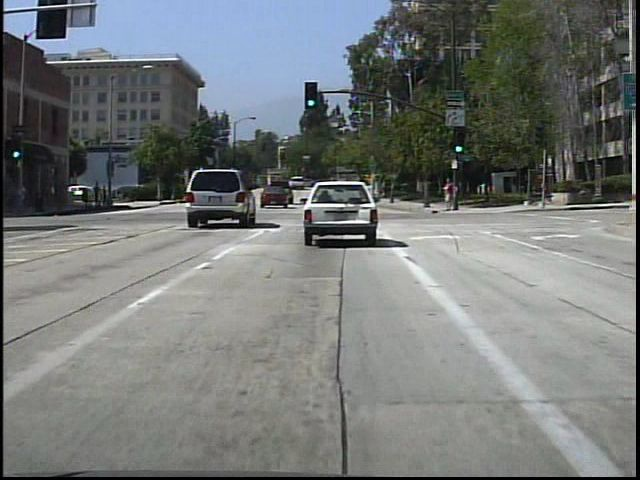person: (438, 172, 457, 215), (94, 180, 104, 212), (107, 182, 108, 209)
